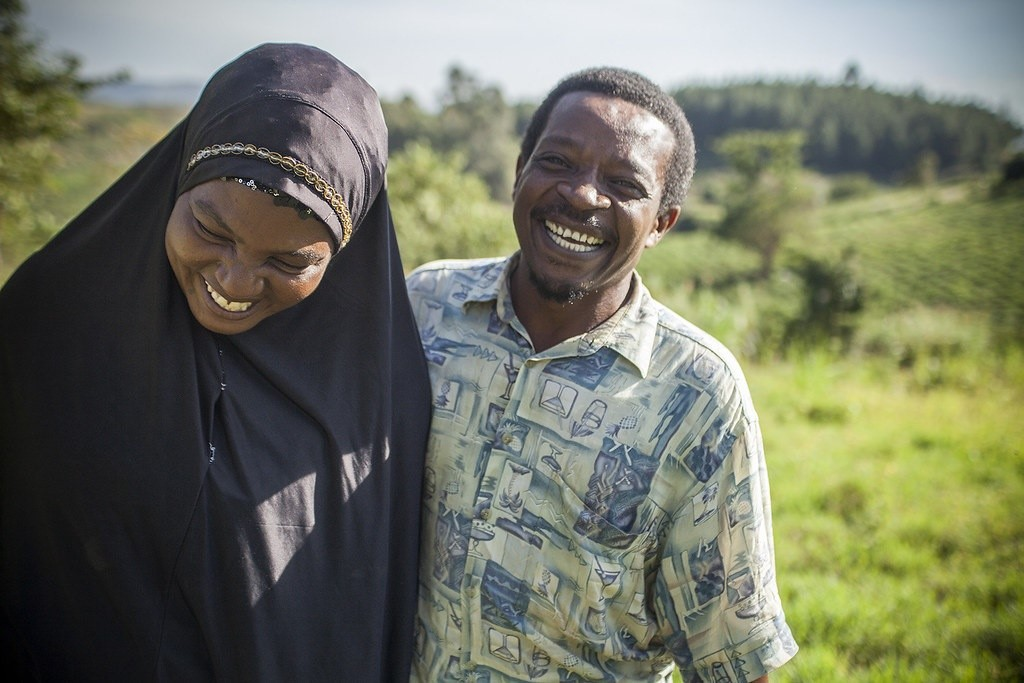face_no_mask: (512, 63, 697, 303), (154, 140, 351, 351)
